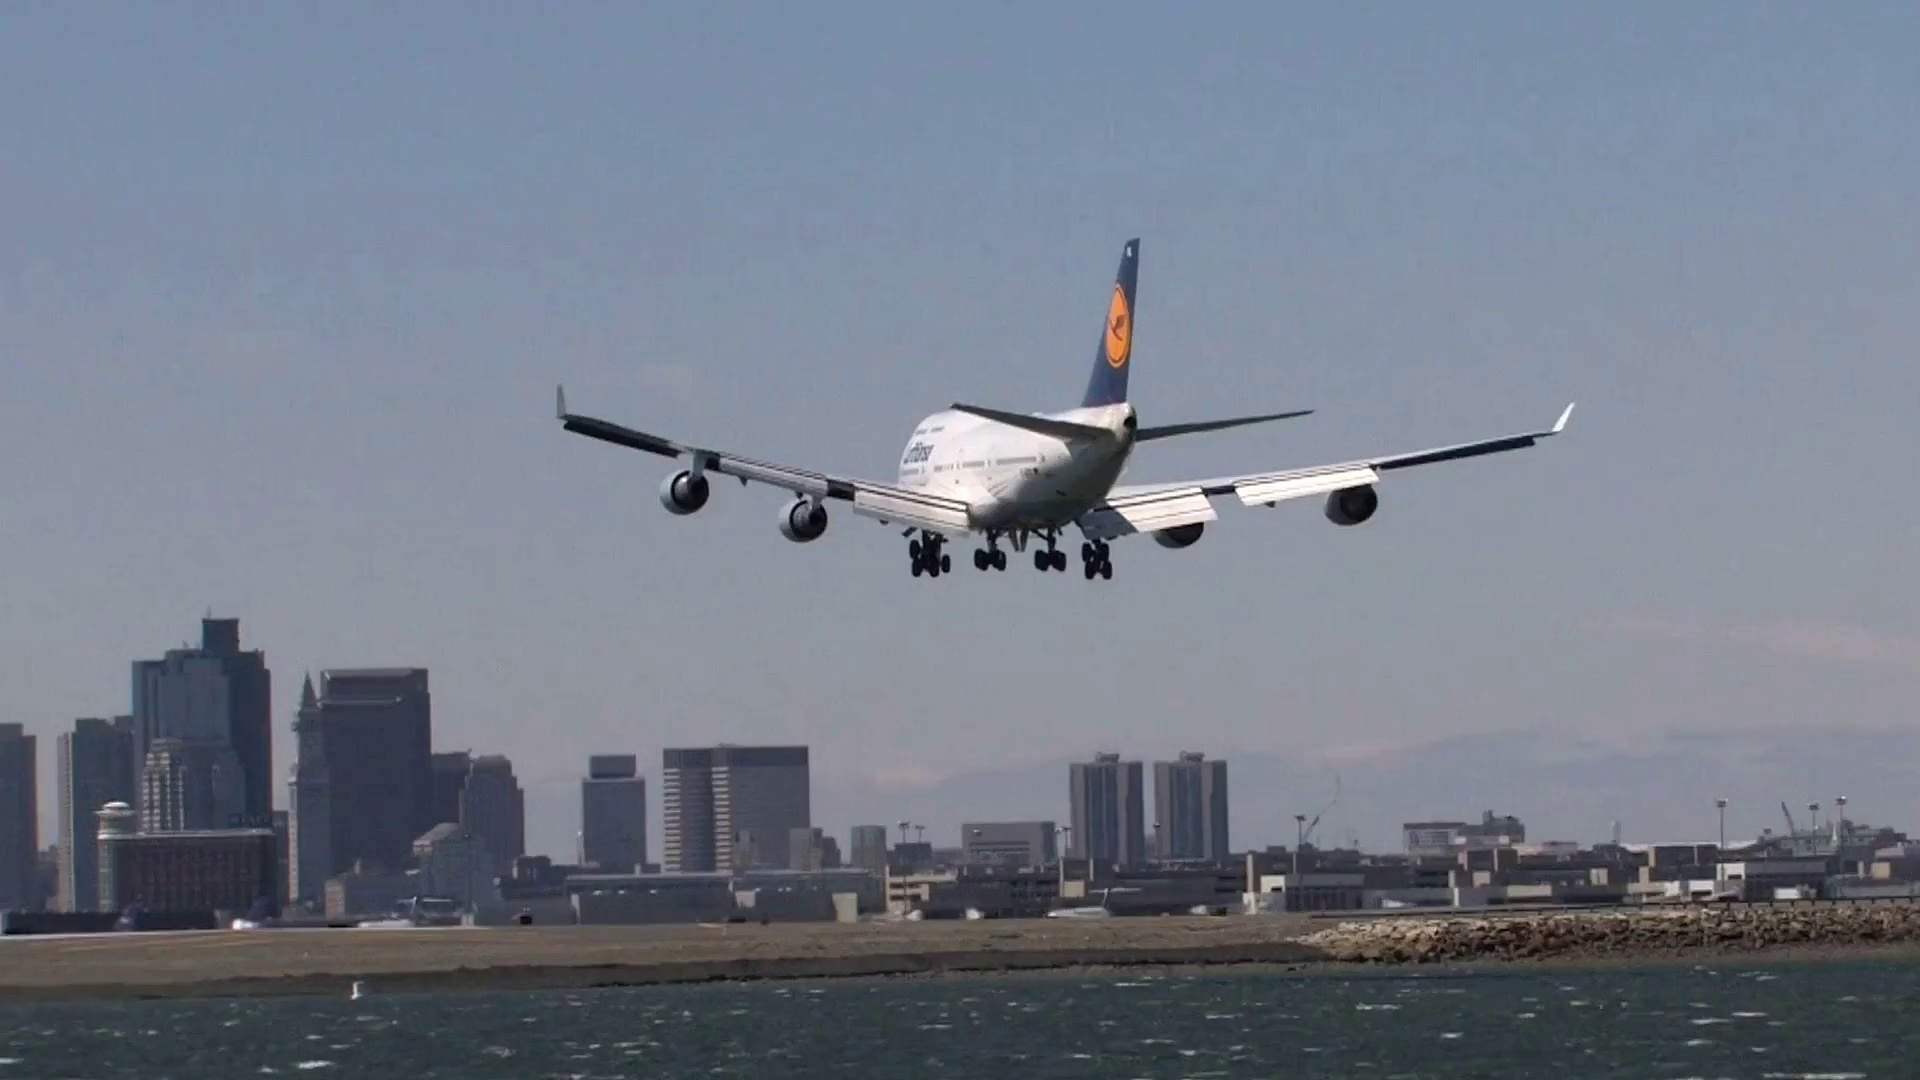plane: (554, 237, 1576, 584)
